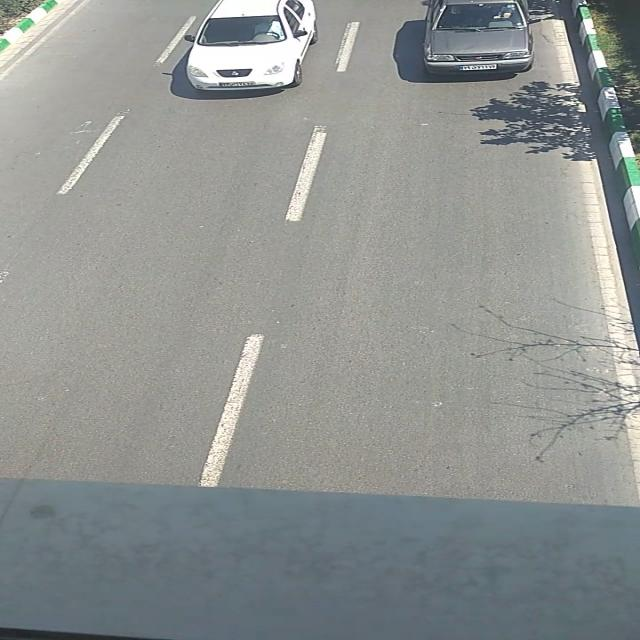car: (184, 0, 321, 91), (425, 0, 535, 76)
